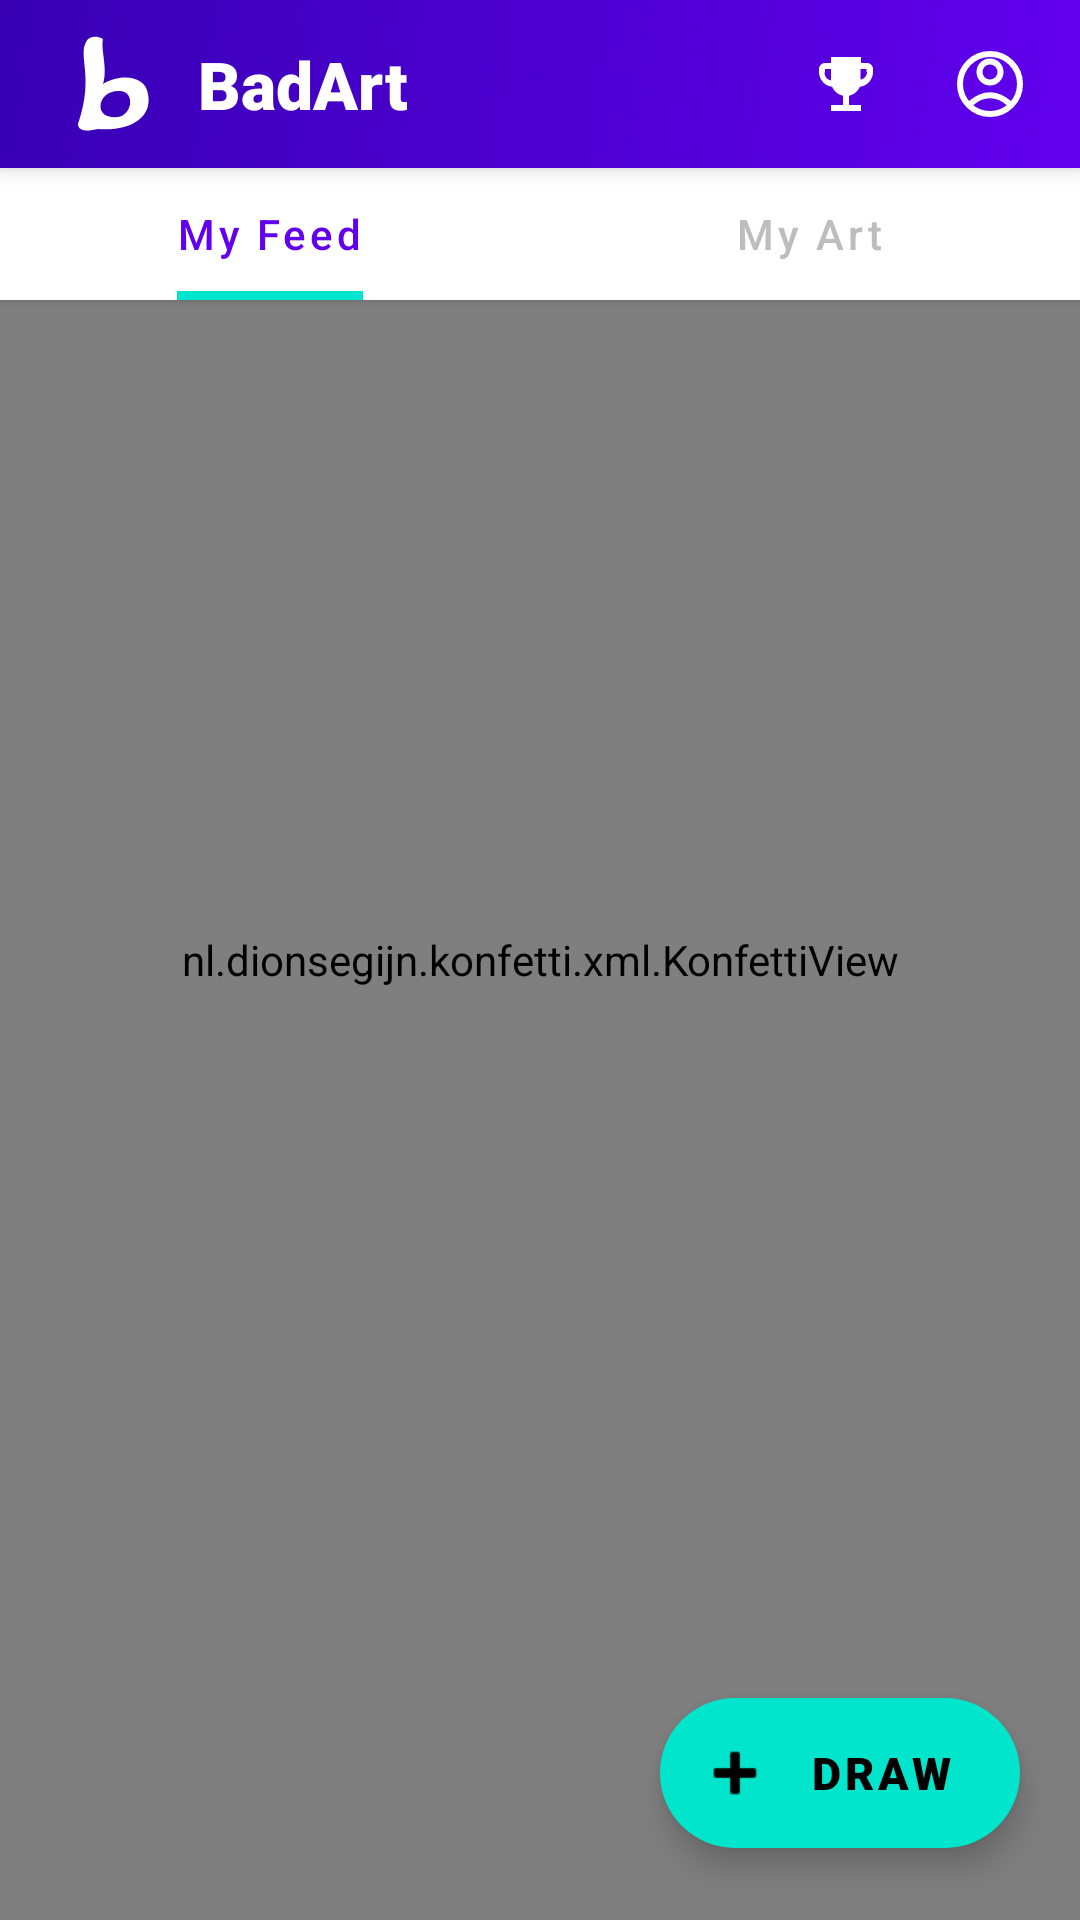

Named icons in this screenshot (1080 x 1920) and their centers, point (x, y):
profile: point (990, 84)
trophy: point (846, 84)
